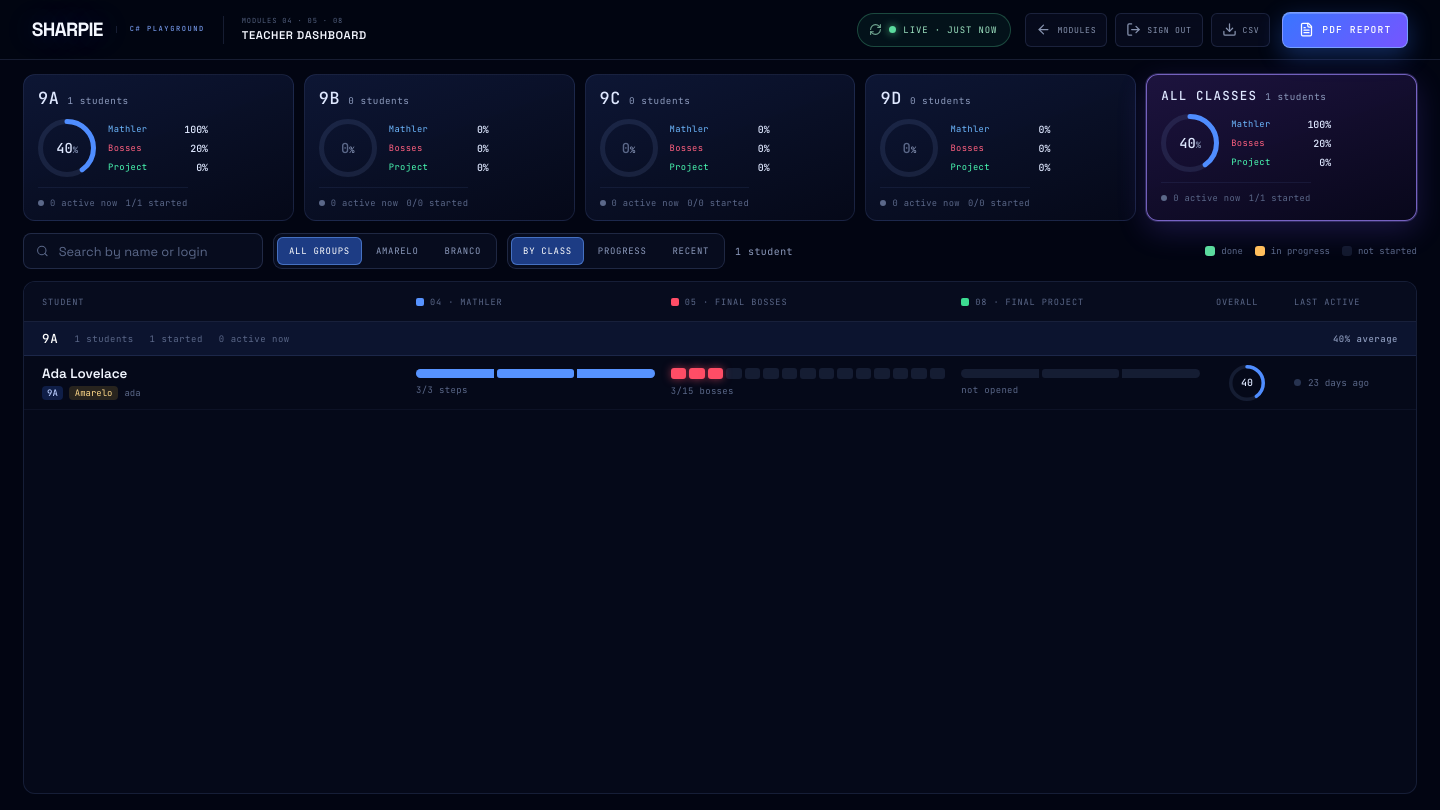
Test: Teacher dashboard › shows the three Mathler steps in the row and in the student panel
The width and height of the screenshot is (1440, 810).
Check: the text "3/3 steps" is shown, box x1=416 y1=384 x2=468 y2=396
Step 1. Click the text "Ada Lovelace" → click(85, 374), box x1=42 y1=365 x2=127 y2=382
(page scrolled)
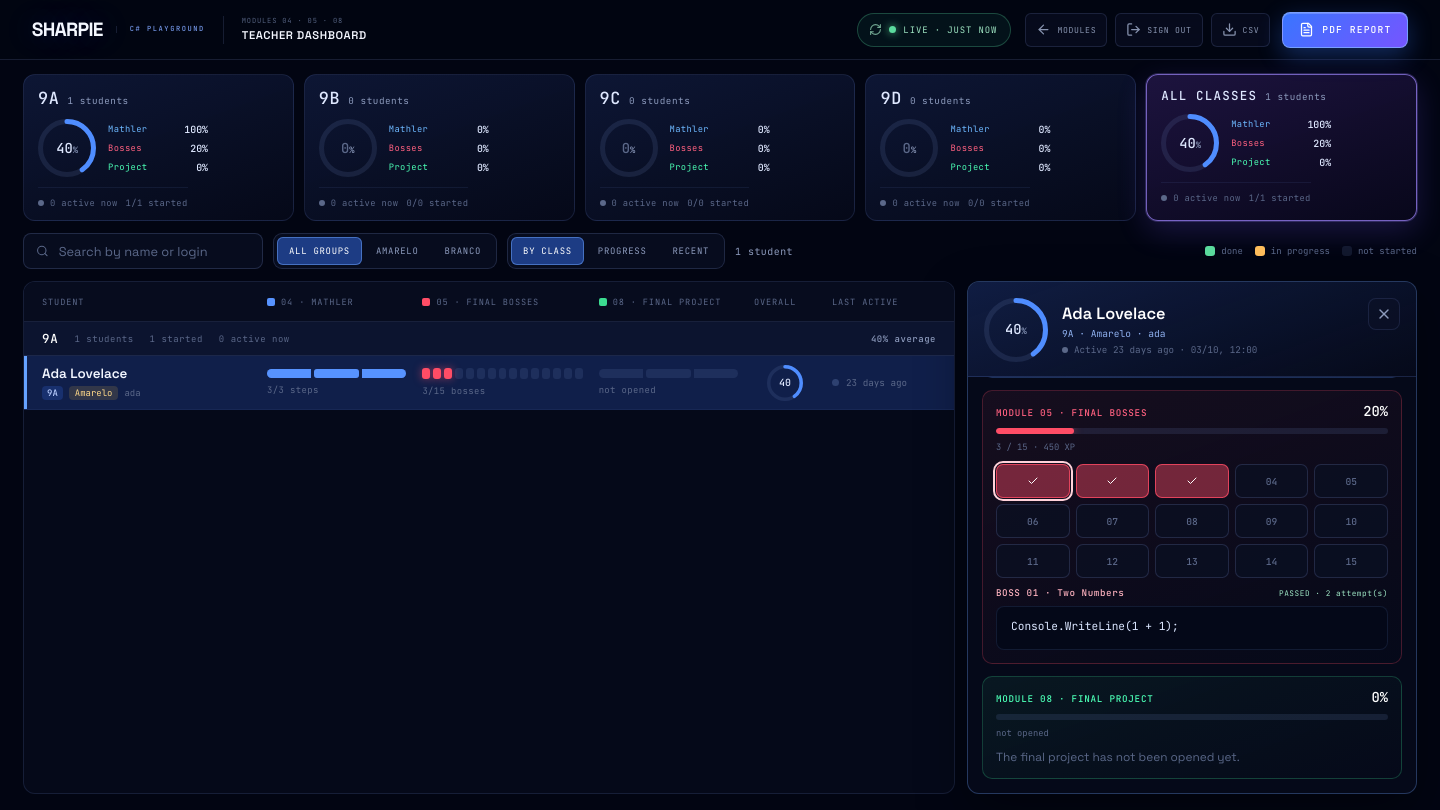
Check: the text "Console.WriteLine(1 + 1);" is shown, box x1=996 y1=606 x2=1388 y2=650
